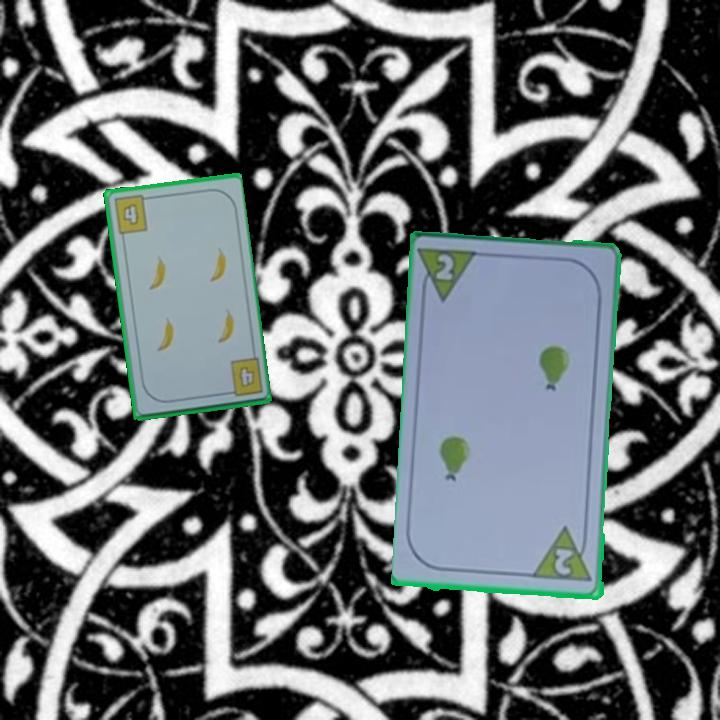2p: (531, 524, 596, 585), (432, 250, 457, 284)
4b: (221, 355, 265, 400), (110, 192, 153, 237)
